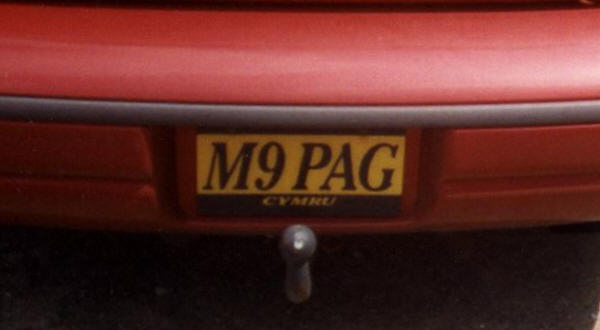license_plate: (195, 132, 406, 197)
